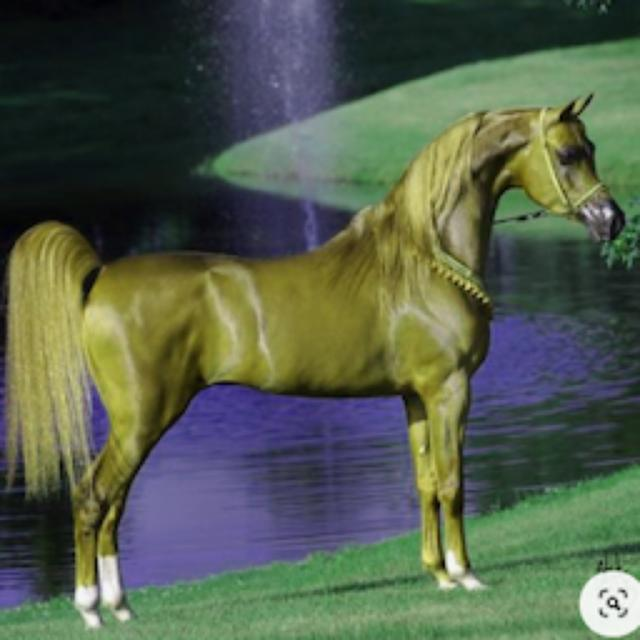Horse: (0, 85, 632, 632)
